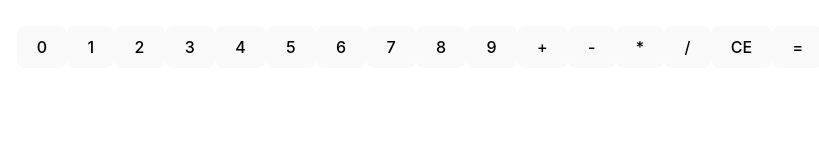
Test case: Calculator › should print single number when pressed › should display the number 0 pressed on the number pad
Click the button "0" at (42, 47), box [17,26,67,68]
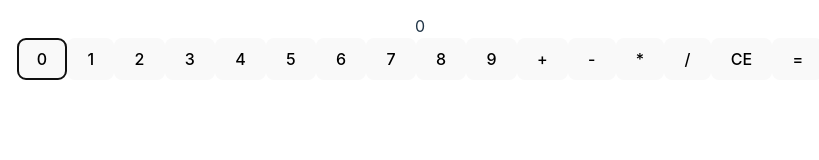
Now the field reads "0", box [415,16,425,36]
